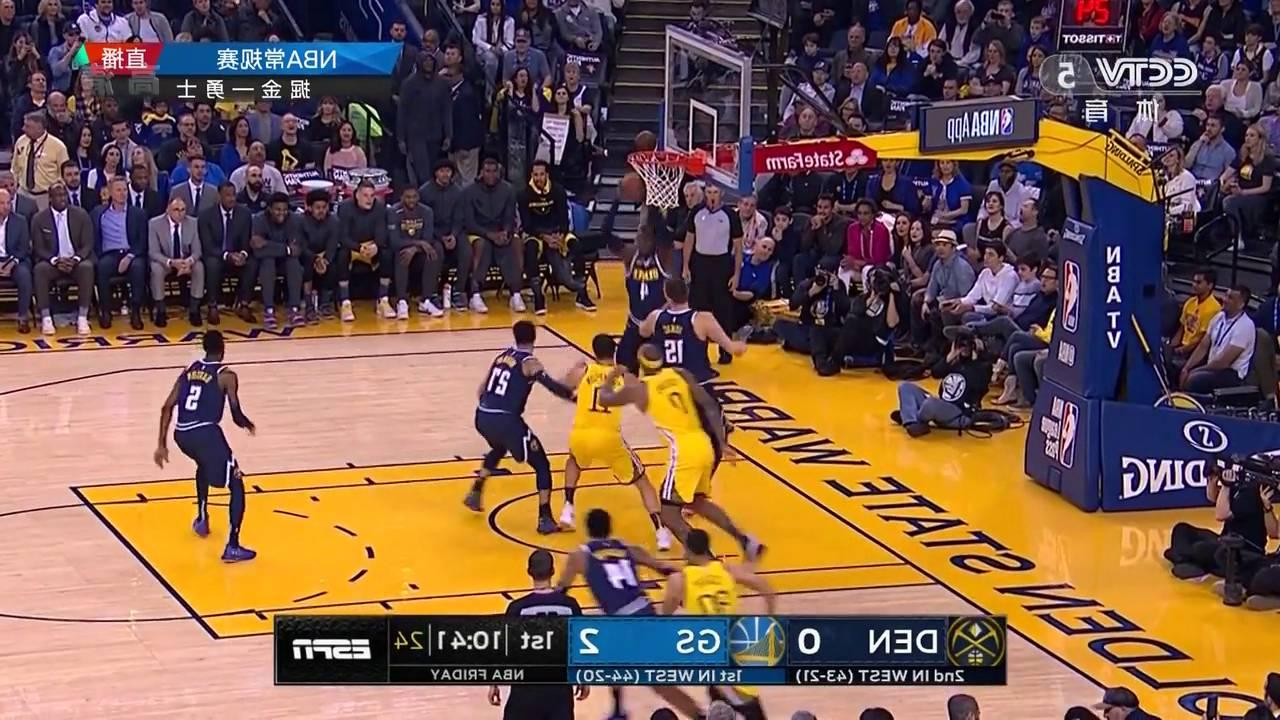basketball: (620, 171, 651, 200)
